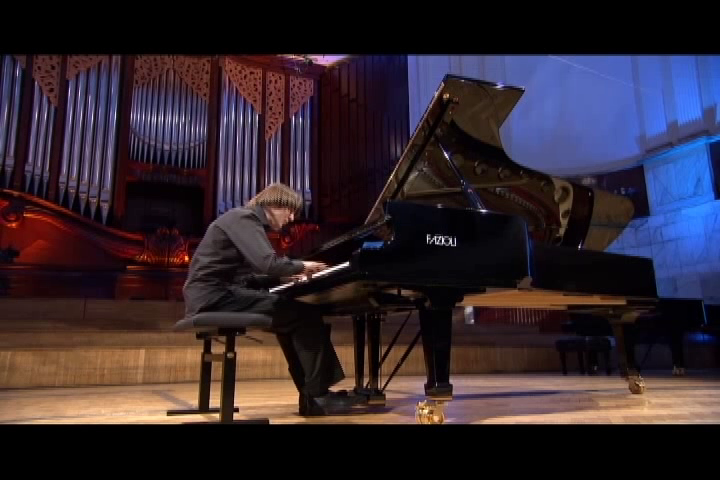keyboard: (255, 257, 380, 293)
